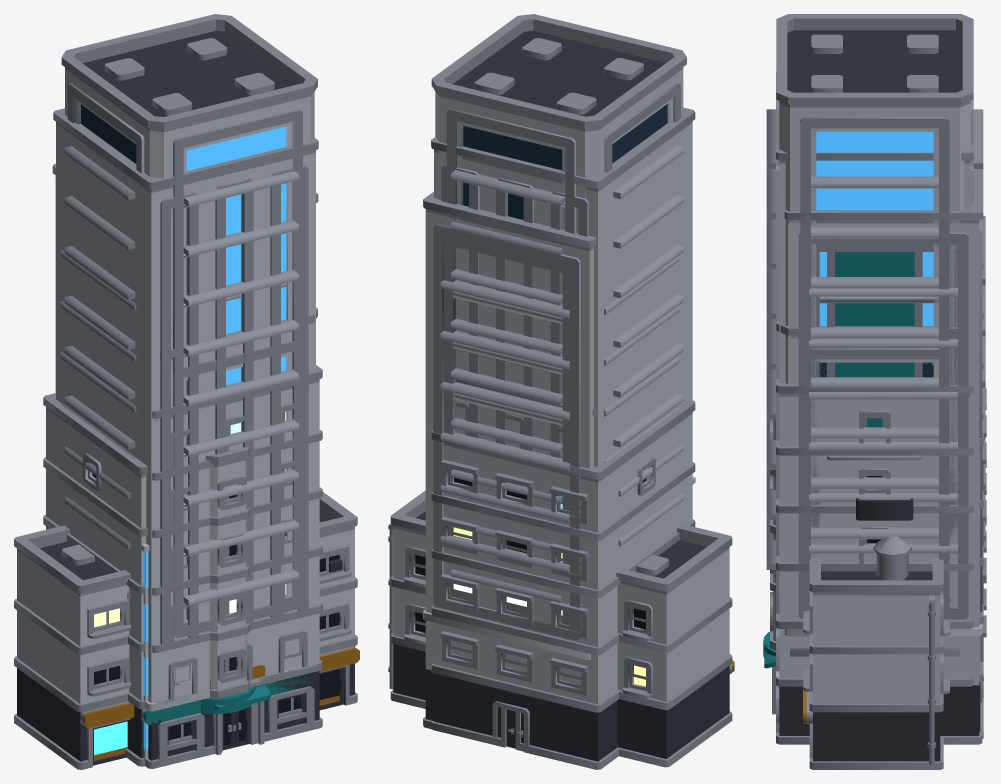
The model's file is city-kit.glb.
3 renders of one model, left to right at view 1: azimuth 30°, elevation 25°; view 2: azimuth 150°, elevation 25°; view 3: azimuth 270°, elevation 25°, orthographic.
Visible parts, largest first — view 1: kc-se, kc-sb, kc-k, kc-l, kc-m, kc-sa, kc-sc, nt-bank; view 2: kc-l, kc-sc, kc-sb, kc-se, kc-k, kc-sa, kc-m; view 3: kc-sb, kc-sc, kc-k, kc-m, kc-sa, kc-se, kc-l.
Boxes of the visible parts, x1,y1,x2,y2 form: kc-se: (53,108,318,768); kc-sb: (61,14,317,635); kc-k: (14,492,359,769); kc-l: (43,393,310,766); kc-m: (152,365,322,766); kc-sa: (64,307,321,765); kc-sc: (52,163,318,754); nt-bank: (141,543,149,765); kc-l: (431,399,695,769); kc-sc: (423,191,679,760); kc-sb: (431,14,686,355); kc-se: (431,107,695,466); kc-k: (388,490,734,767); kc-sa: (451,344,683,602); kc-m: (455,379,596,456); kc-sb: (766,14,983,609); kc-sc: (764,169,985,744); kc-k: (803,536,949,769); kc-m: (776,378,973,744); kc-sa: (766,319,983,744); kc-se: (776,71,973,693); kc-l: (763,388,986,738).
Bounding box in the file's own units: 16.67 × 35.84 × 11.22.
Materials: 1 (1 with a texture image).
